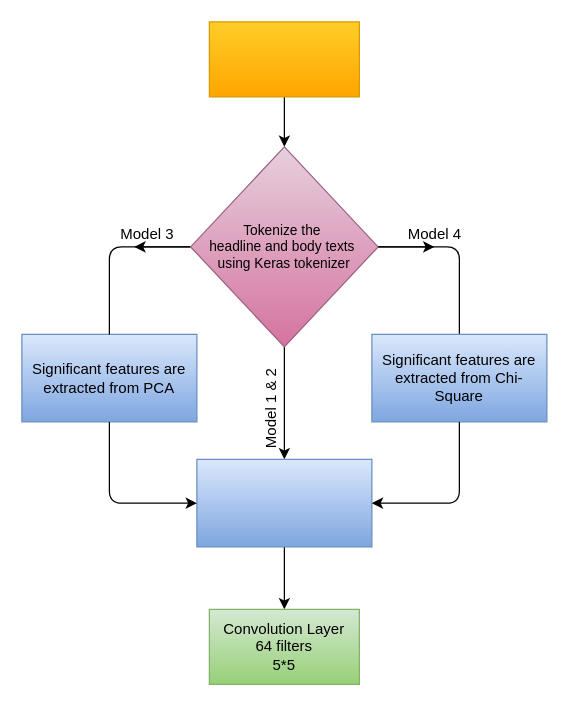
This 569x706 diagram has some shape labels left out. The shapes that lost their labels are listed below. From the top down, each one's centre as x and y in pixels, then its label:
(x=283, y=59): FNC-1 Dataset
(x=284, y=502): Keras embedding layer transforms the tokens into word-vectors (word2vec)
